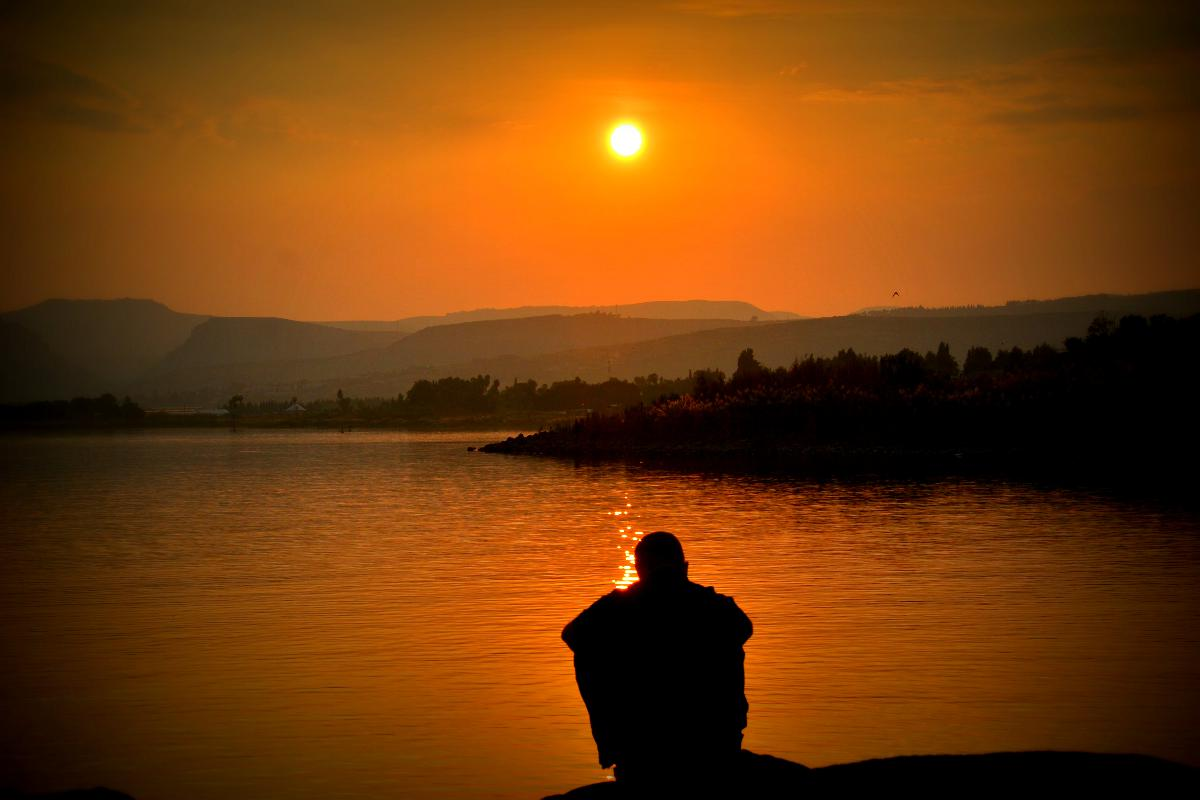Person: (563, 532, 768, 791)
